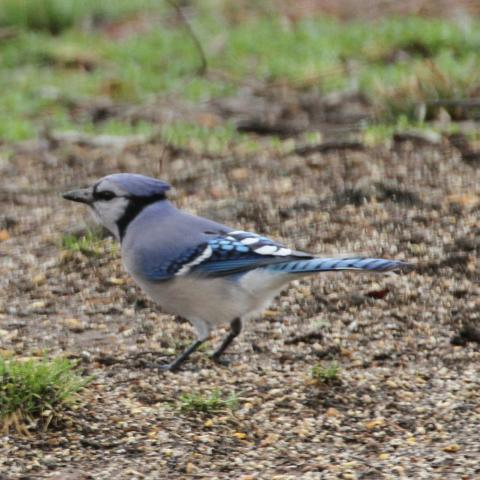bird: (60, 170, 414, 374)
